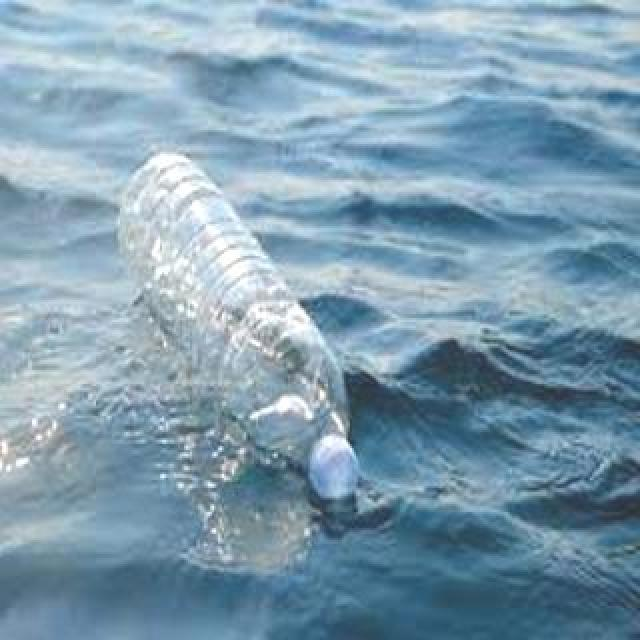Pet_Bottle: (109, 151, 373, 533)
